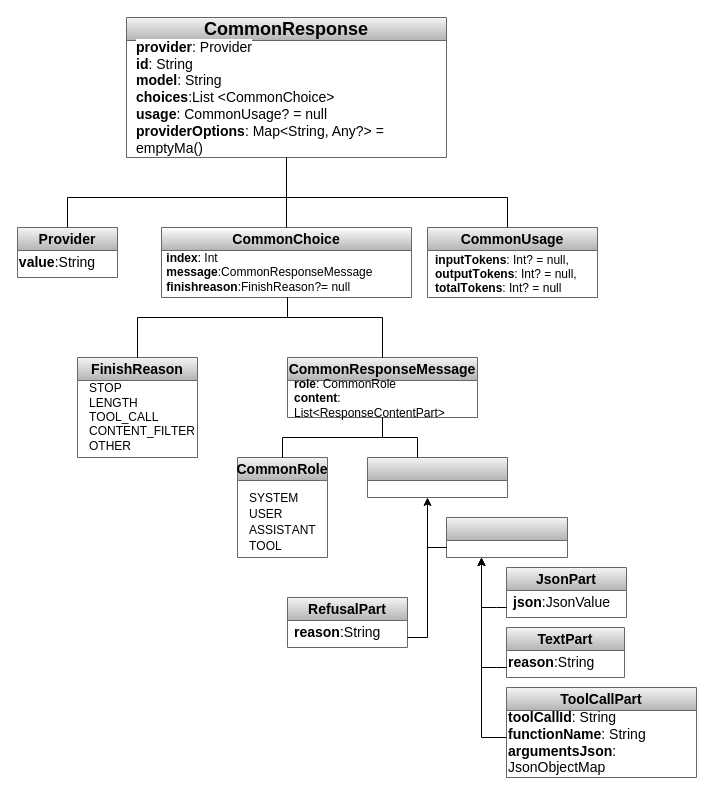
The diagram is 714 pixels wide and 795 high, and some of its shapes have lost their labels. The shapes that lost their labels are listed below. From the top down, each one's centre as x and y in pixels, then its label:
At (x=437, y=477): "ResponseContentPart".
At (x=507, y=537): "SharedContenPart".
